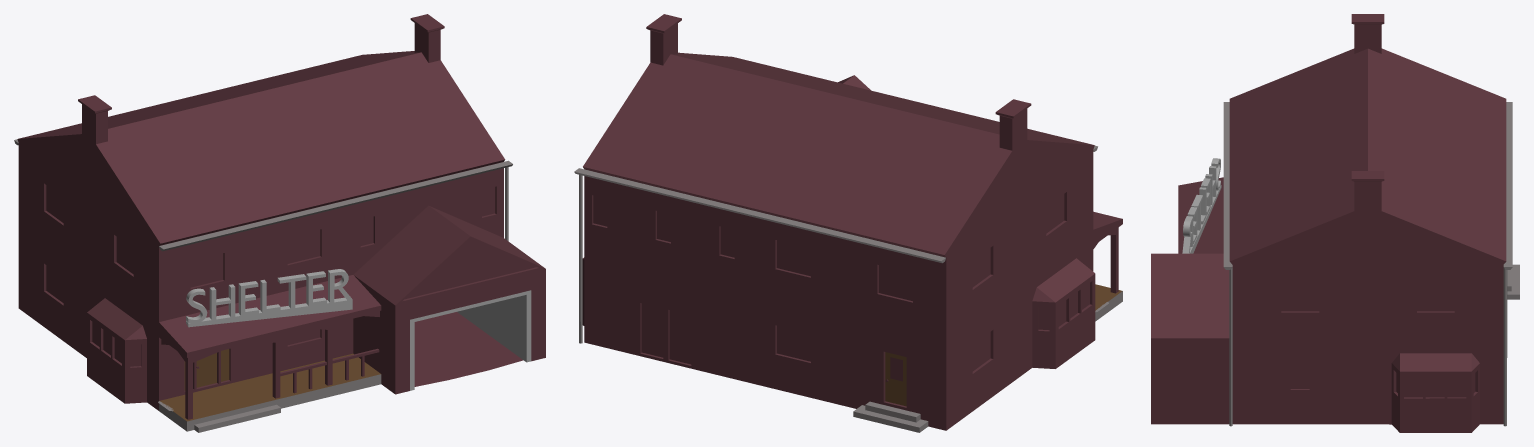
The model's file is Shelter.fbx.
3 renders of one model, left to right at view 1: azimuth 30°, elevation 25°; view 2: azimuth 150°, elevation 25°; view 3: azimuth 270°, elevation 25°, orthographic. The views are drawn at different scales.
Parts seen in each view (by area): view 1: building-house-family-large, typeMesh1, pCube1; view 2: building-house-family-large; view 3: building-house-family-large, typeMesh1.
Part boxes in pixels (bbox=[...]): building-house-family-large: bbox=[14, 14, 545, 432]; typeMesh1: bbox=[186, 269, 352, 323]; pCube1: bbox=[186, 297, 352, 327]; building-house-family-large: bbox=[574, 14, 1122, 432]; building-house-family-large: bbox=[1151, 14, 1519, 432]; typeMesh1: bbox=[1182, 158, 1220, 253].
Bounding box in the file's own units: 1568 × 1003 × 1360.
